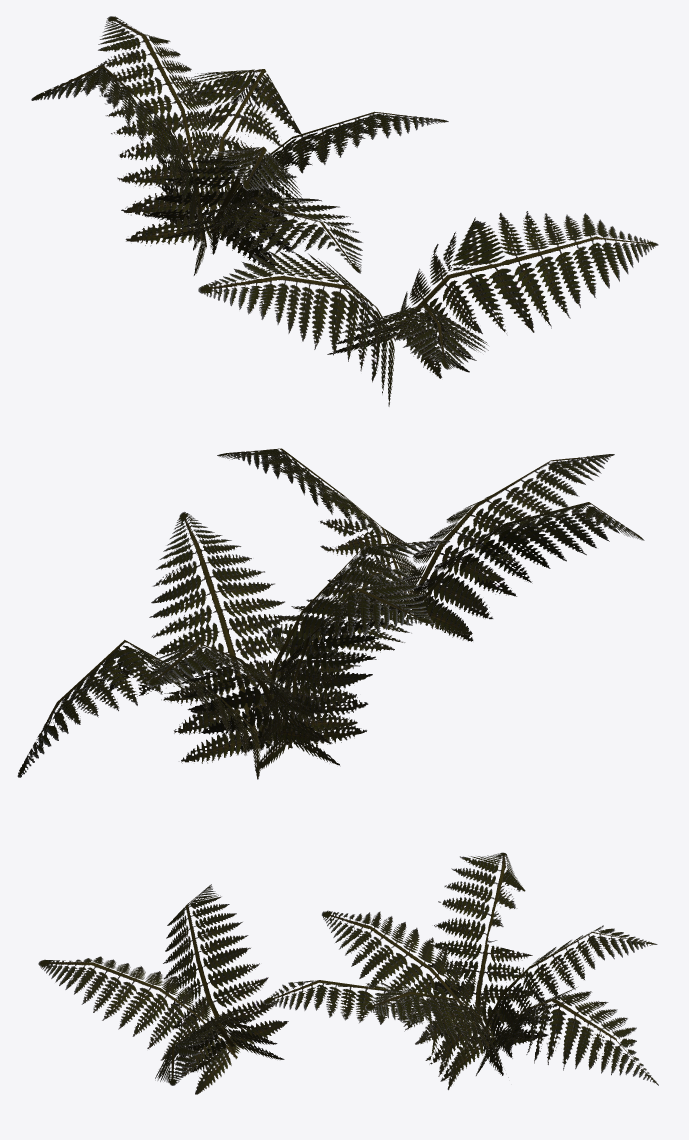
The model's file is FERN.fbx.
The picture shows the model from 3 angles, top to bottom: view 1: azimuth 30°, elevation 25°; view 2: azimuth 150°, elevation 25°; view 3: azimuth 270°, elevation 25°; orthographic projection. The views are drawn at different scales.
Visible parts, largest first — view 1: FERN_02, FERN_01; view 2: FERN_02, FERN_01; view 3: FERN_02, FERN_01.
Boxes of the visible parts, x1,y1,x2,y2 form: FERN_02: [31, 16, 448, 275]; FERN_01: [198, 211, 658, 406]; FERN_02: [17, 511, 449, 779]; FERN_01: [217, 448, 644, 641]; FERN_02: [263, 852, 658, 1090]; FERN_01: [38, 884, 288, 1094].
Size of the model in its own units: 103 by 49.47 by 160.
Materials: 2 (2 with a texture image).
